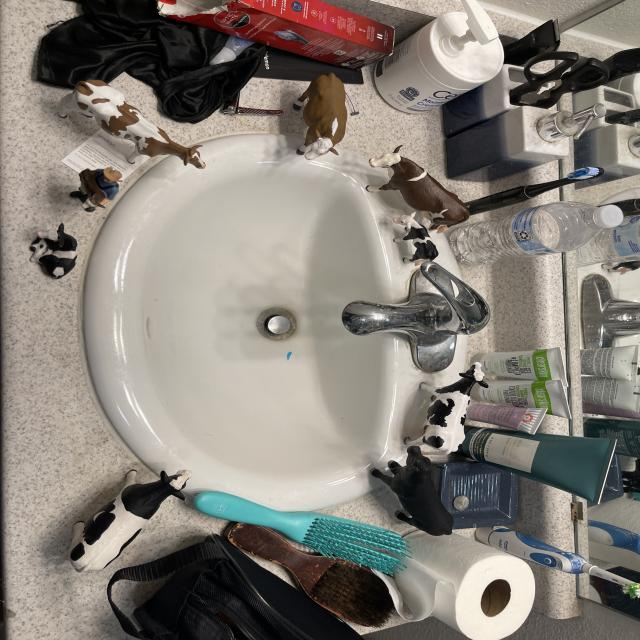cow: (50, 441, 202, 582), (54, 67, 210, 203), (368, 442, 463, 554), (373, 150, 475, 243), (414, 351, 492, 457), (21, 218, 89, 286), (298, 73, 347, 159), (393, 209, 440, 267), (76, 166, 108, 212)
person: (84, 158, 129, 202)
